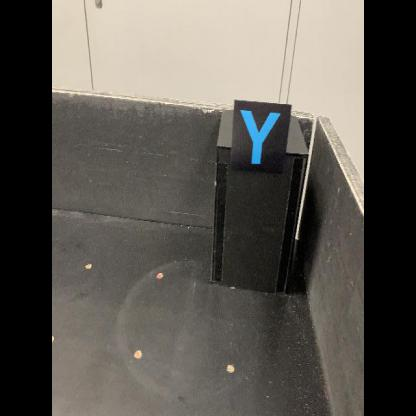y: (230, 98, 293, 177)
